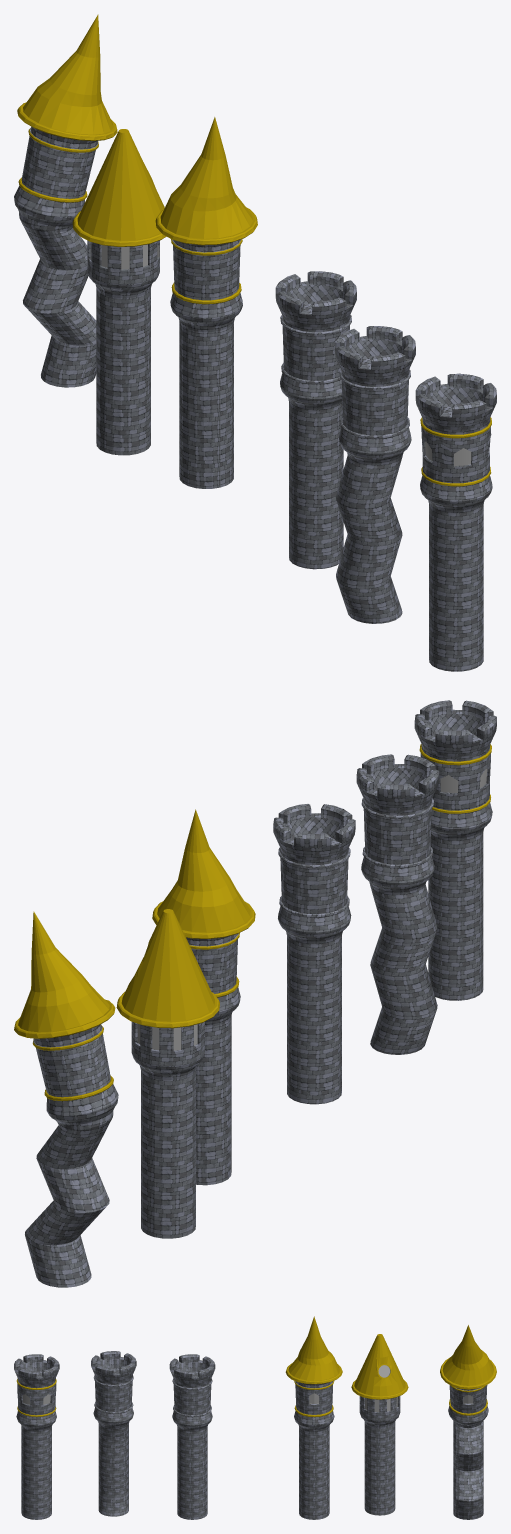
File: Towers.fbx
3 views of the same model, one above another, from view 1: azimuth 30°, elevation 25°; view 2: azimuth 150°, elevation 25°; view 3: azimuth 270°, elevation 25° (orthographic). The views are drawn at different scales.
Parts seen in each view (by area): view 1: Tower1, Tower5, Tower2, Tower4, Tower, Tower3; view 2: Tower5, Tower2, Tower4, Tower3, Tower, Tower1; view 3: Tower1, Tower5, Tower2, Tower, Tower3, Tower4.
Boxes of the visible parts, left/top/right/bottom form: Tower1: left=155, top=117, right=257, bottom=488; Tower5: left=14, top=14, right=117, bottom=387; Tower2: left=72, top=129, right=166, bottom=455; Tower4: left=334, top=326, right=415, bottom=623; Tower: left=415, top=373, right=496, bottom=671; Tower3: left=275, top=271, right=356, bottom=569; Tower5: left=14, top=911, right=118, bottom=1287; Tower2: left=116, top=909, right=219, bottom=1238; Tower4: left=356, top=754, right=438, bottom=1054; Tower3: left=273, top=804, right=355, bottom=1104; Tower: left=414, top=700, right=496, bottom=1000; Tower1: left=152, top=809, right=255, bottom=1185; Tower1: left=285, top=1316, right=342, bottom=1519; Tower5: left=440, top=1325, right=496, bottom=1519; Tower2: left=351, top=1334, right=408, bottom=1515; Tower: left=14, top=1354, right=59, bottom=1519; Tower3: left=169, top=1354, right=215, bottom=1519; Tower4: left=91, top=1351, right=136, bottom=1516.
Size of the model in its own units: 19.9 by 61.01 by 132.
